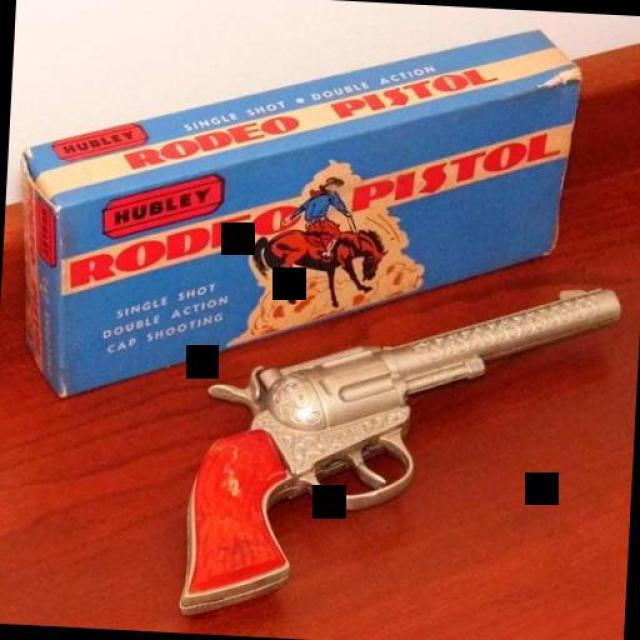gun: (160, 250, 624, 640)
